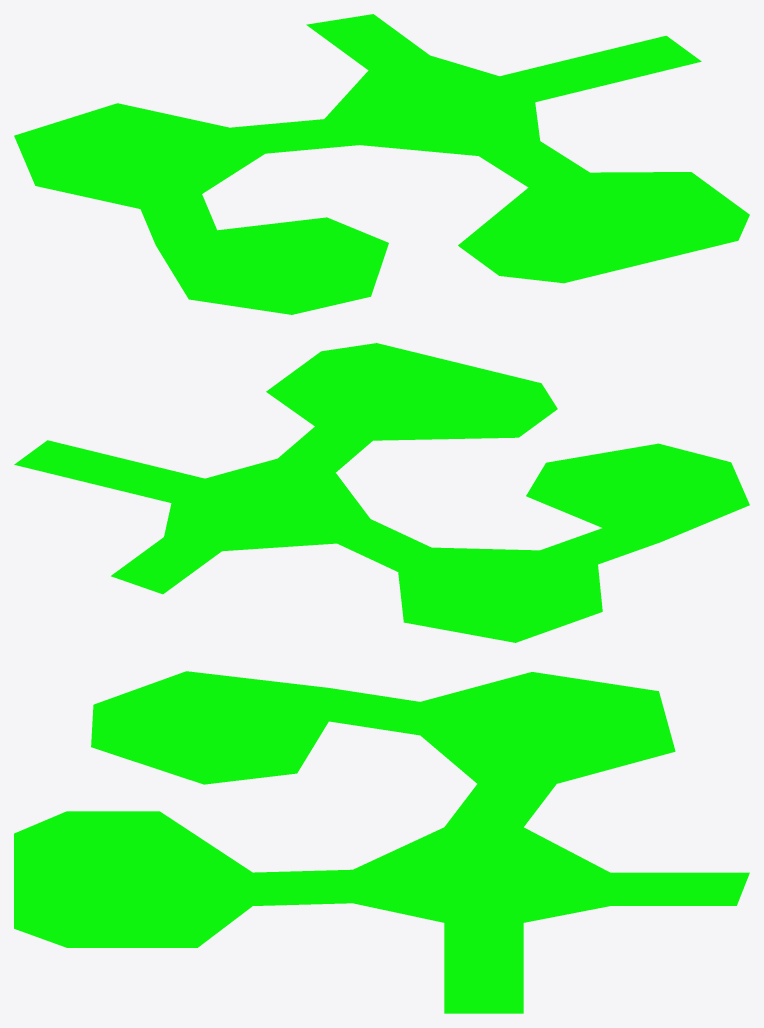
File: s01a_lc2-floor.glb
3 renders of one model, top to bottom at view 1: azimuth 30°, elevation 25°; view 2: azimuth 150°, elevation 25°; view 3: azimuth 270°, elevation 25°, orthographic. The views are drawn at different scales.
Parts seen in each view (by area): view 1: collision_floor-colonly; view 2: collision_floor-colonly; view 3: collision_floor-colonly.
Part boxes in pixels (box(x1,y1,x2,y2)): collision_floor-colonly: box(14, 14, 749, 314); collision_floor-colonly: box(14, 343, 749, 642); collision_floor-colonly: box(14, 671, 749, 1013).
Size of the model in its own units: 61.23 by 0 by 55.59.
